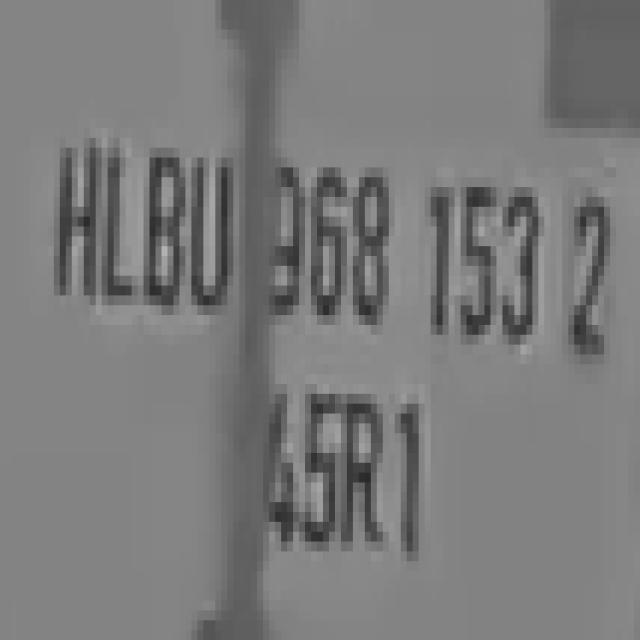dv: (558, 170, 620, 372)
owner: (41, 106, 246, 334)
serial: (264, 133, 541, 361)
size: (249, 366, 447, 568)
